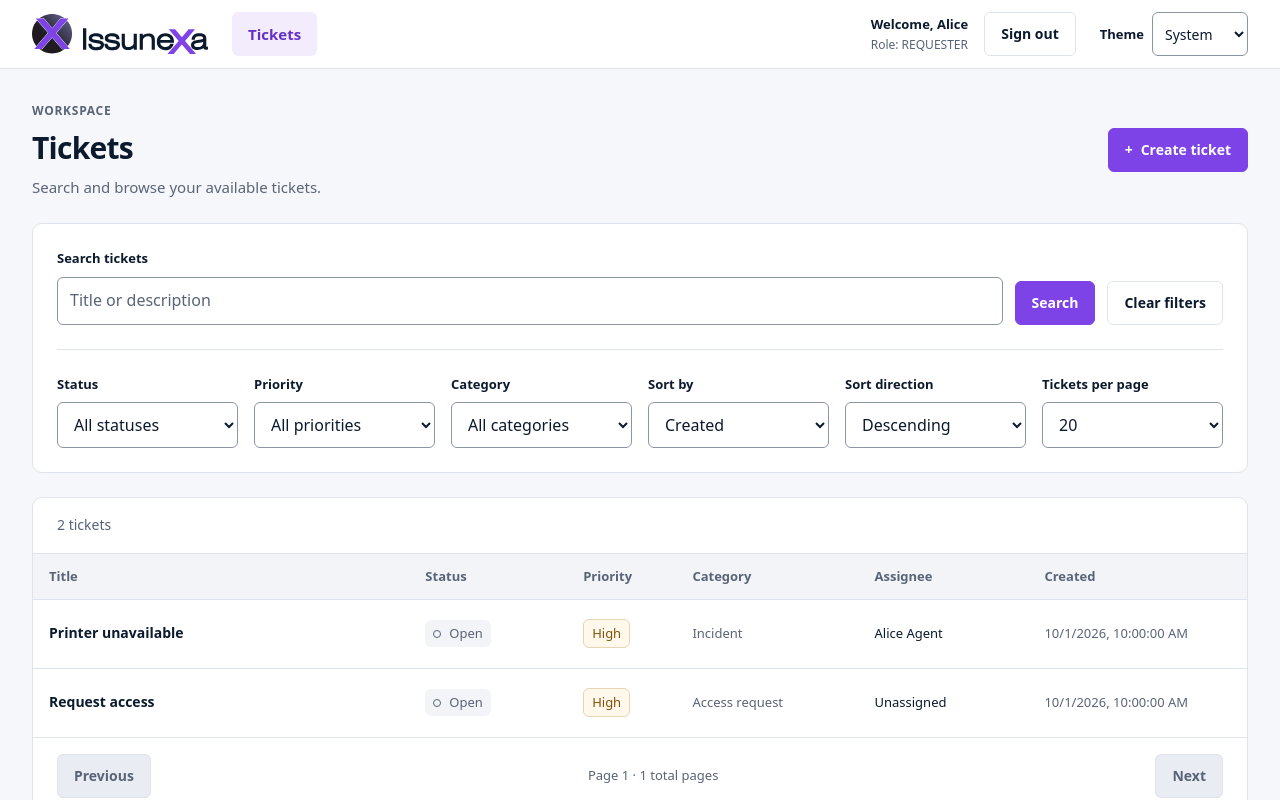
Test case: authentication routes and form › keeps account UI after an unconfirmed logout and offers retry
Click the button "Sign out" at {"x": 1030, "y": 34}, box [984,12,1076,56]
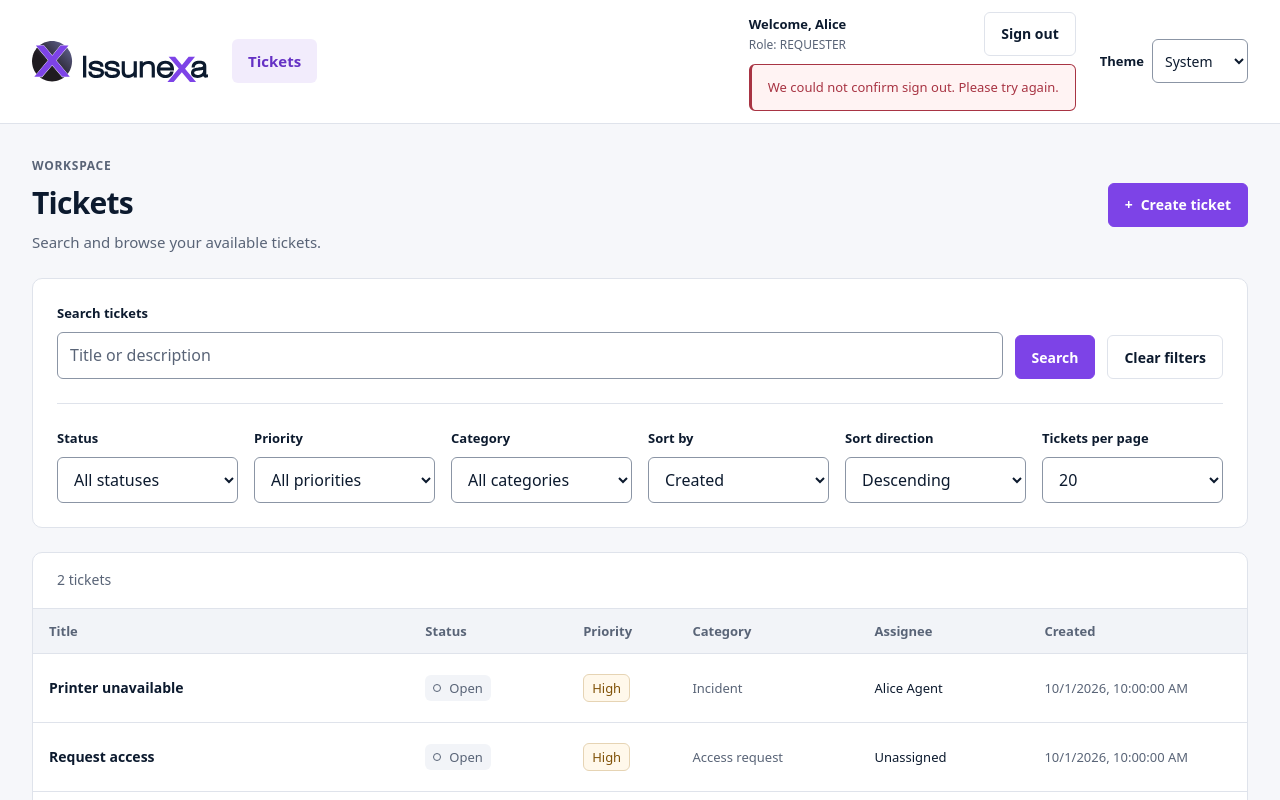
Expected: the text "Welcome, Alice" is shown, [749,15,846,33]
Expected: the message "We could not confirm sign out. Please try again." is shown, [749,64,1076,111]
